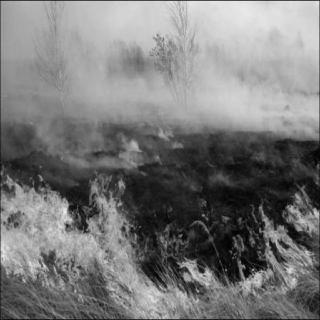Fire: (229, 190, 317, 298)
